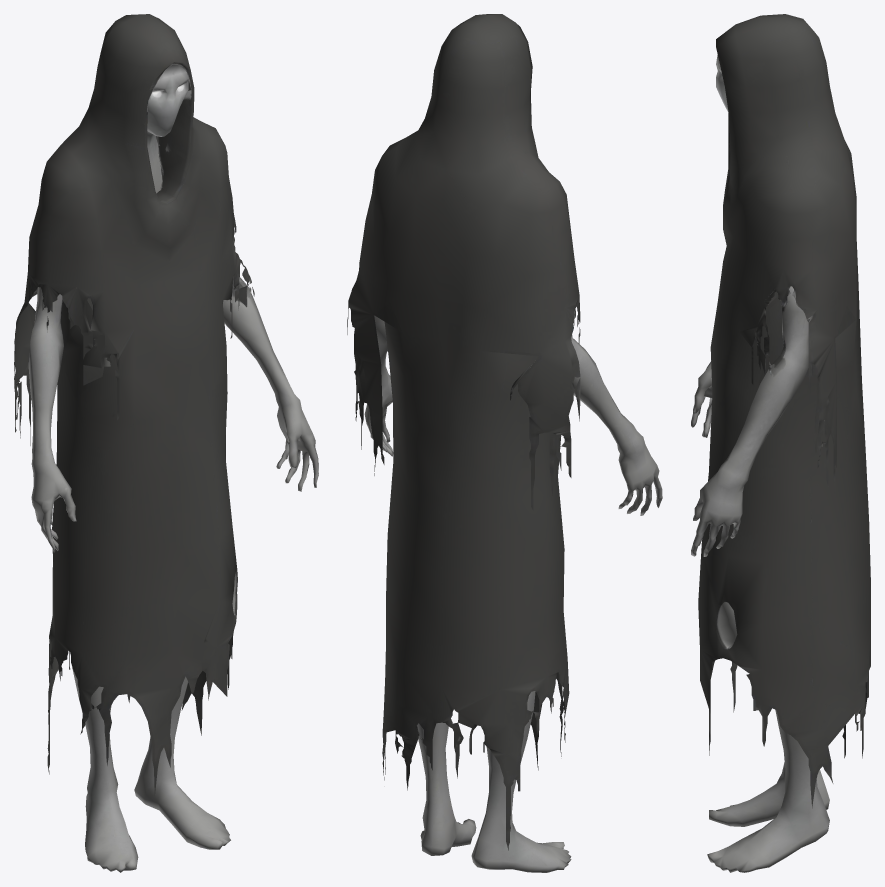
3 views of the same model, side by side, from view 1: azimuth 30°, elevation 25°; view 2: azimuth 150°, elevation 25°; view 3: azimuth 270°, elevation 25° (orthographic). The views are drawn at different scales.
Parts seen in each view (by area): view 1: tripo_node_dfb67859-6fa4-4b84-8970-6b85038402c7; view 2: tripo_node_dfb67859-6fa4-4b84-8970-6b85038402c7; view 3: tripo_node_dfb67859-6fa4-4b84-8970-6b85038402c7.
Part boxes in pixels (x1,y1,x2,y2): tripo_node_dfb67859-6fa4-4b84-8970-6b85038402c7: (14,14,318,872); tripo_node_dfb67859-6fa4-4b84-8970-6b85038402c7: (347,14,662,872); tripo_node_dfb67859-6fa4-4b84-8970-6b85038402c7: (691,14,870,872).
Bounding box in the file's own units: 0.3535 × 0.998 × 0.1973.
Materials: 1 (1 with a texture image).
